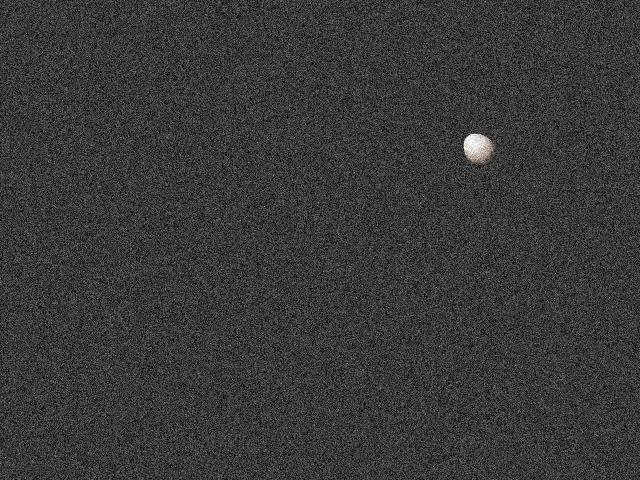egg: (463, 133, 496, 165)
